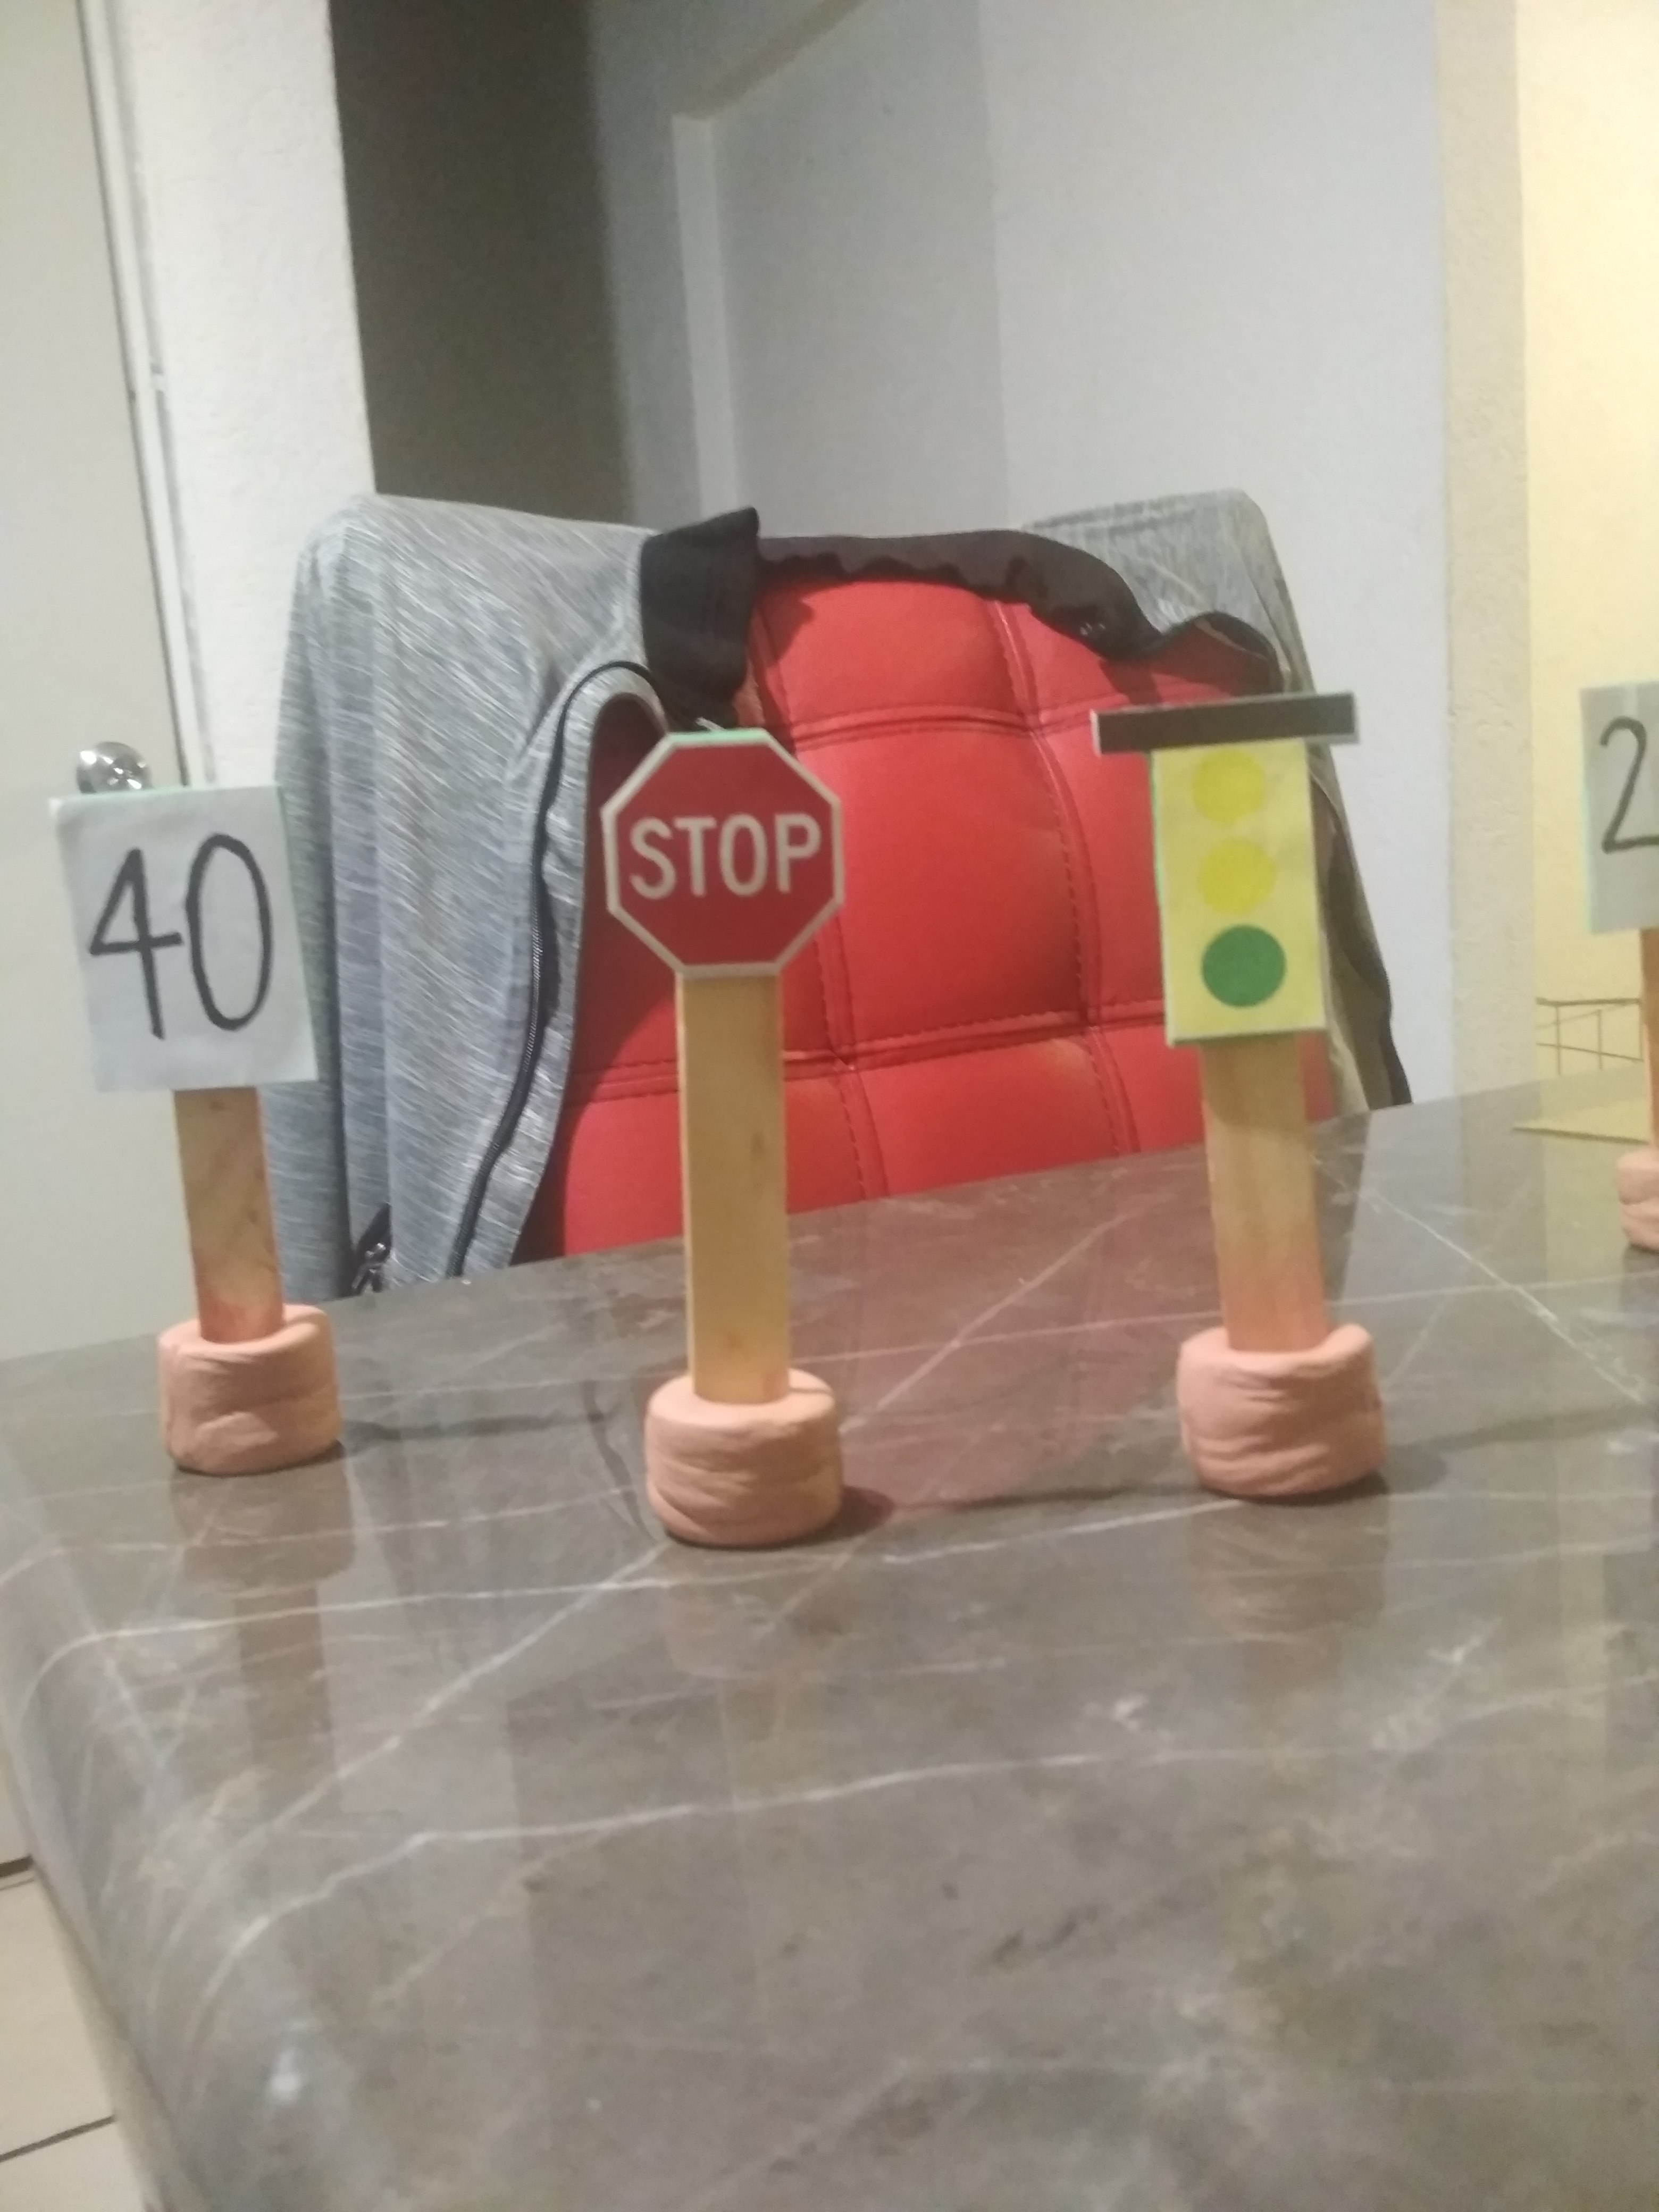Green: (1089, 686, 1364, 1057)
Limit 40: (38, 775, 324, 1108)
Stop: (596, 719, 852, 977)
